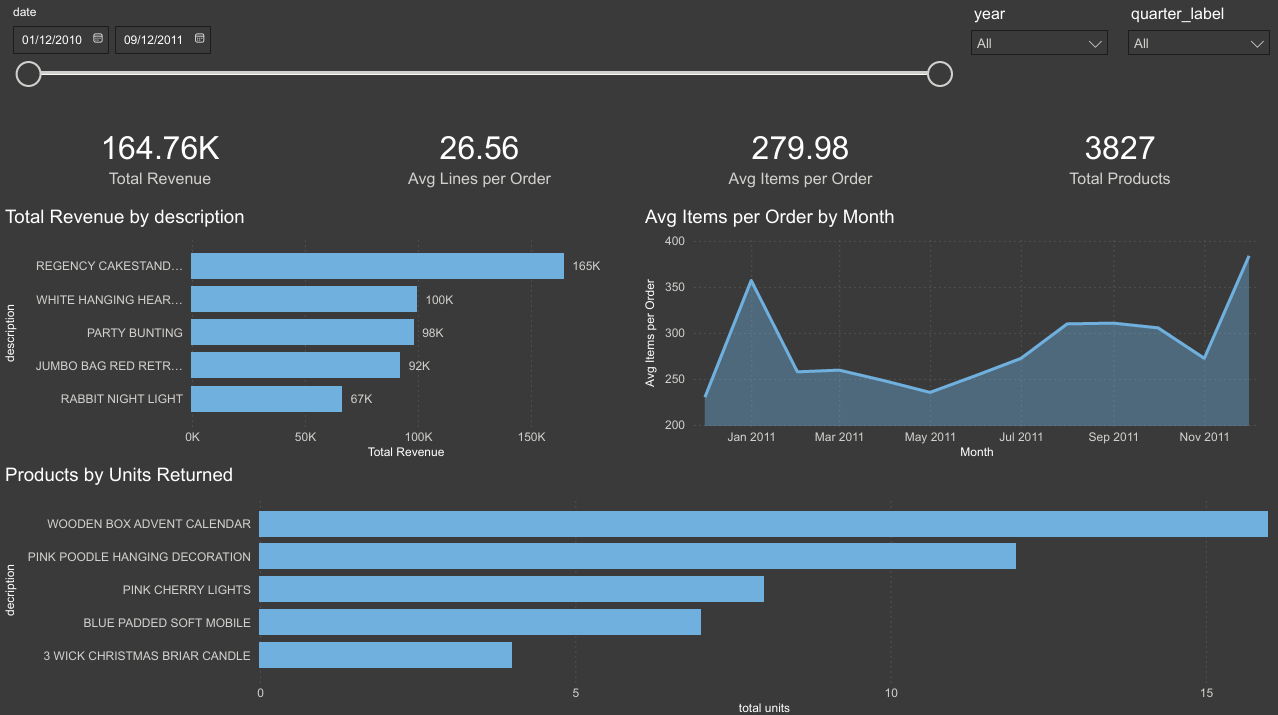

The dashboard page shown, as its layout file describes it:
{"tool":"powerbi","page":{"name":"Product Analysis","canvas":[1280,720],"ordinal":1},"visuals":[{"type":"clusteredBarChart","title":"Total Revenue by description","fields":{"Category":["online_retail vw_dim_product.description"],"Y":["Sum(online_retail vw_fact_orders.revenue)"],"Series":["online_retail vw_dim_product.is_product"]},"box":[0,210.4,640.5,255],"z":0},{"type":"clusteredBarChart","fields":{"Category":["online_retail vw_dim_product.description"],"Y":["online_retail vw_dim_product.Units Returned"]},"box":[0,465.4,1280,253.9],"z":1000},{"type":"slicer","fields":{"Values":["online_retail dim_date.date"]},"box":[0,0,1008.4,114.2],"z":2000},{"type":"slicer","fields":{"Values":["online_retail dim_date.quarter"]},"box":[1008.6,0,137.1,113.8],"z":3000},{"type":"slicer","fields":{"Values":["online_retail dim_date.year"]},"box":[1145.8,0,134.2,113.8],"z":4000},{"type":"card","title":"Avg Lines per Order","fields":{"Values":["online_retail vw_dim_product.Avg Lines per Order"]},"box":[320.3,114,320.3,96.4],"z":5000},{"type":"card","title":"Avg Items per Order","fields":{"Values":["online_retail vw_dim_product.Avg Items per Order"]},"box":[640.5,114,320.3,96.4],"z":6000},{"type":"card","title":"Total Products","fields":{"Values":["online_retail vw_dim_product.Total Products"]},"box":[968,114,312,96.4],"z":7000},{"type":"lineChart","fields":{"Y":["Sum(online_retail vw_fact_orders.quantity)"],"Category":["online_retail dim_date.year_month.Variation.Date Hierarchy.Month"]},"box":[640.1,210.1,640.1,262.1],"z":8000},{"type":"card","title":"Total Revenue","fields":{"Values":["Sum(online_retail vw_fact_orders.revenue)"]},"box":[0,114,320.5,96.1],"z":9000}]}

Visuals, with their boxes in screenshot pixels (x1, y1, x2, y2), scaled from the page's 1280x720 canvas onto the 1278x715 screenshot:
"Total Revenue by description" clusteredBarChart: [0,209,639,462]
clusteredBarChart - online_retail vw_dim_product.description x online_retail vw_dim_product.Units Returned: [0,462,1277,714]
slicer - online_retail dim_date.date: [0,0,1007,113]
slicer - online_retail dim_date.quarter: [1007,0,1144,113]
slicer - online_retail dim_date.year: [1144,0,1277,113]
"Avg Lines per Order" card: [320,113,640,209]
"Avg Items per Order" card: [639,113,959,209]
"Total Products" card: [966,113,1277,209]
lineChart - Sum(online_retail vw_fact_orders.quantity) x online_retail dim_date.year_month.Variation.Date Hierarchy.Month: [639,209,1277,469]
"Total Revenue" card: [0,113,320,209]
